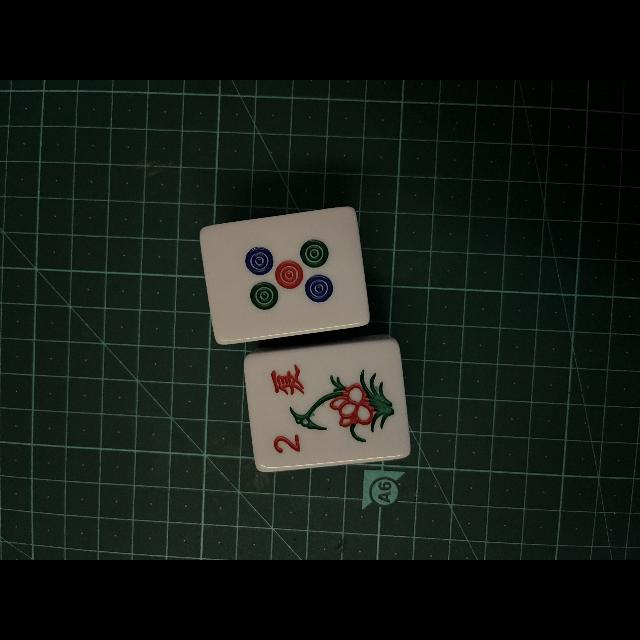d5: (210, 217, 366, 329)
s2: (252, 346, 312, 466)
